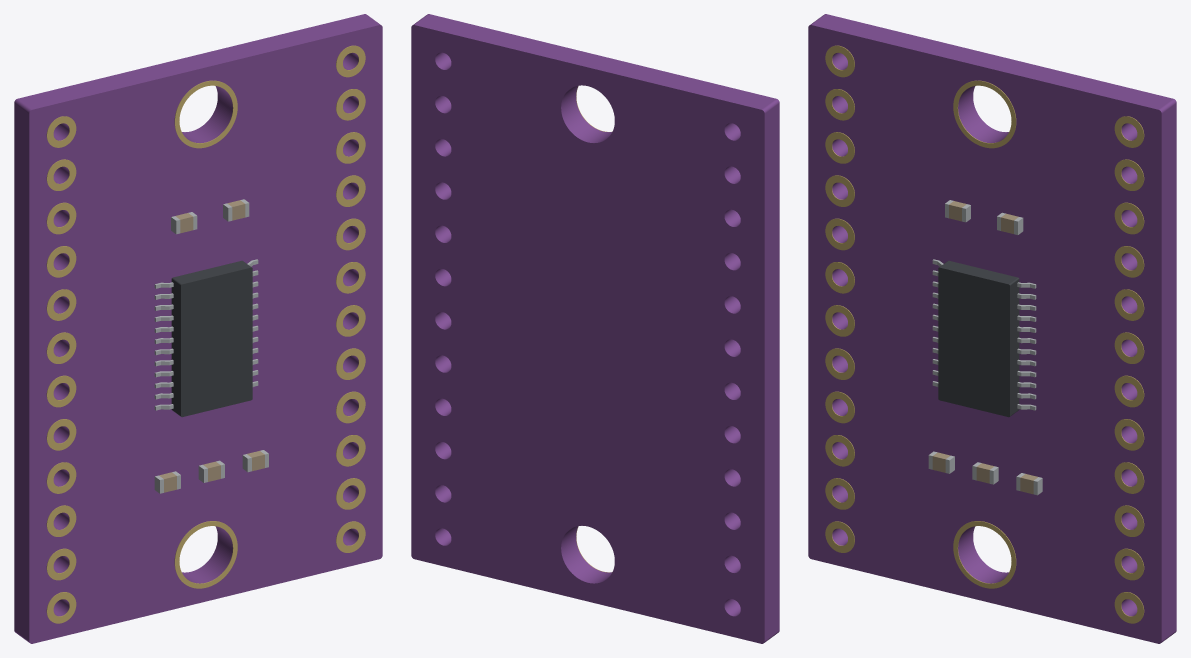
File: tca9548a.glb
3 renders of one model, left to right at view 1: azimuth 30°, elevation 25°; view 2: azimuth 150°, elevation 25°; view 3: azimuth 330°, elevation 25°, orthographic.
Parts seen in each view (by area): view 1: pcb_0, tca9548a_package_0, mounting_hole_annuli_1, mounting_hole_annuli_0, top_plated_pads_12, top_plated_pads_16, top_plated_pads_1, top_plated_pads_5, top_plated_pads_8, top_plated_pads_9, top_plated_pads_20, top_plated_pads_21 (+16 smaller); view 2: pcb_0; view 3: pcb_0, tca9548a_package_0, mounting_hole_annuli_1, mounting_hole_annuli_0, top_plated_pads_0, top_plated_pads_4, top_plated_pads_8, top_plated_pads_9, top_plated_pads_13, top_plated_pads_17, top_plated_pads_20, top_plated_pads_21 (+16 smaller).
Boxes of the visible parts, left/top/right/bottom form: pcb_0: left=14, top=14, right=382, bottom=643; tca9548a_package_0: left=171, top=260, right=252, bottom=417; mounting_hole_annuli_1: left=174, top=80, right=237, bottom=148; mounting_hole_annuli_0: left=174, top=521, right=237, bottom=588; top_plated_pads_12: left=336, top=521, right=365, bottom=552; top_plated_pads_16: left=336, top=348, right=365, bottom=379; top_plated_pads_1: left=46, top=548, right=76, bottom=580; top_plated_pads_5: left=46, top=375, right=76, bottom=407; top_plated_pads_8: left=46, top=246, right=76, bottom=277; top_plated_pads_9: left=46, top=202, right=76, bottom=234; top_plated_pads_20: left=336, top=175, right=365, bottom=206; top_plated_pads_21: left=336, top=132, right=365, bottom=163; pcb_0: left=411, top=14, right=779, bottom=643; pcb_0: left=808, top=14, right=1176, bottom=643; tca9548a_package_0: left=938, top=260, right=1019, bottom=417; mounting_hole_annuli_1: left=953, top=80, right=1016, bottom=148; mounting_hole_annuli_0: left=953, top=521, right=1016, bottom=588; top_plated_pads_0: left=825, top=521, right=854, bottom=552; top_plated_pads_4: left=825, top=348, right=854, bottom=379; top_plated_pads_8: left=825, top=175, right=854, bottom=206; top_plated_pads_9: left=825, top=132, right=854, bottom=163; top_plated_pads_13: left=1114, top=548, right=1144, bottom=580; top_plated_pads_17: left=1114, top=375, right=1144, bottom=407; top_plated_pads_20: left=1114, top=246, right=1144, bottom=277; top_plated_pads_21: left=1114, top=202, right=1144, bottom=234.
Size of the model in its own units: 0.0217 by 0.0314 by 0.00275.
